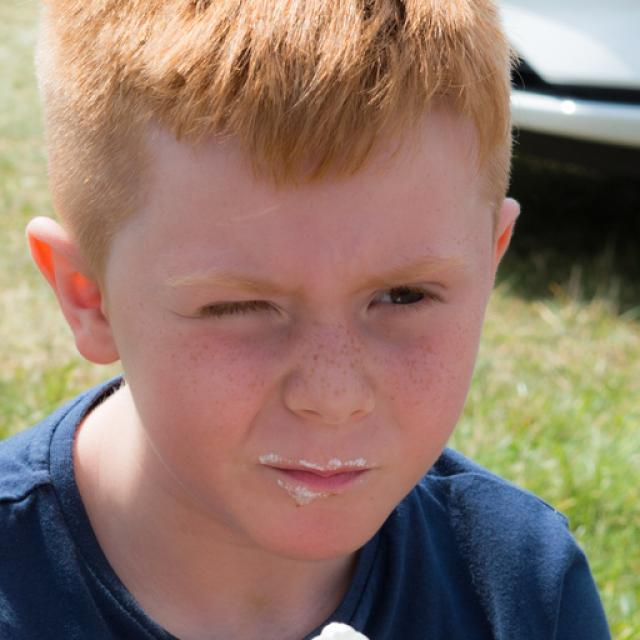disgust: (105, 86, 498, 562)
